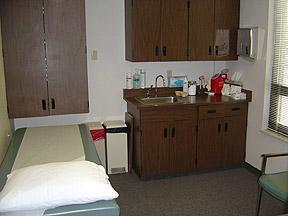Bote de Basura: (103, 121, 130, 176), (87, 121, 106, 166)
Cama: (1, 126, 121, 215)
Lavamanos: (143, 73, 183, 106)
Ventana: (266, 0, 287, 140)
